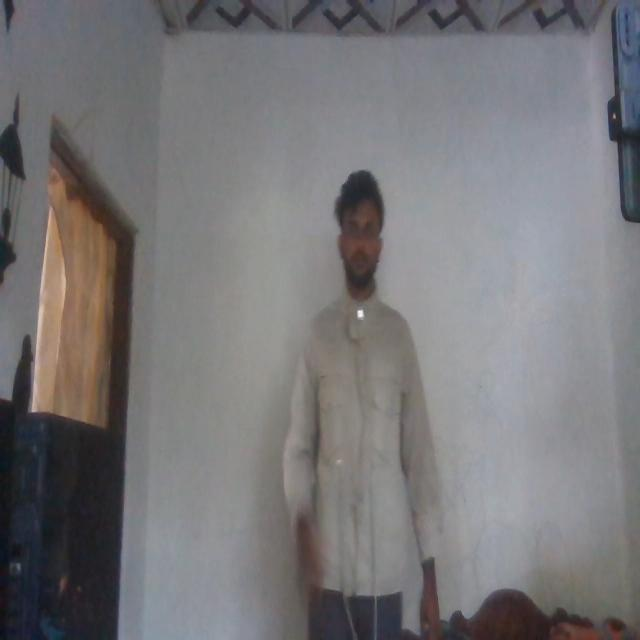Jacket_Wearer: (286, 287, 441, 583)
Person: (284, 159, 440, 640)
